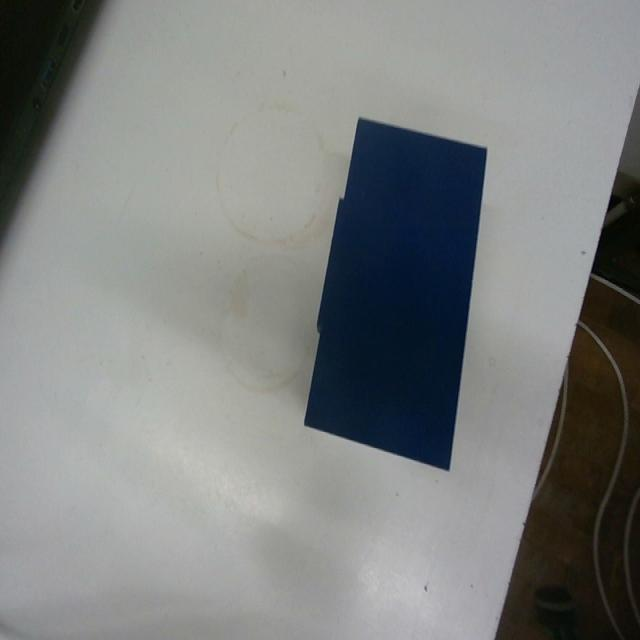Blue Cuboid: (301, 112, 489, 472)
